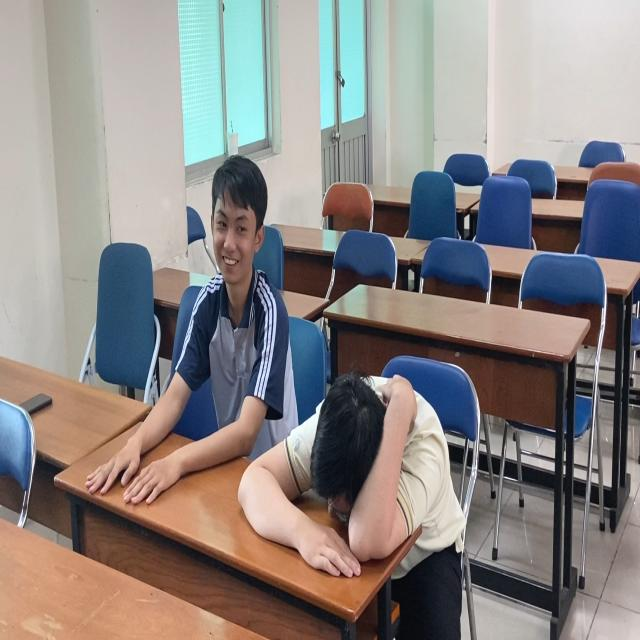sleep: (241, 362, 463, 589)
